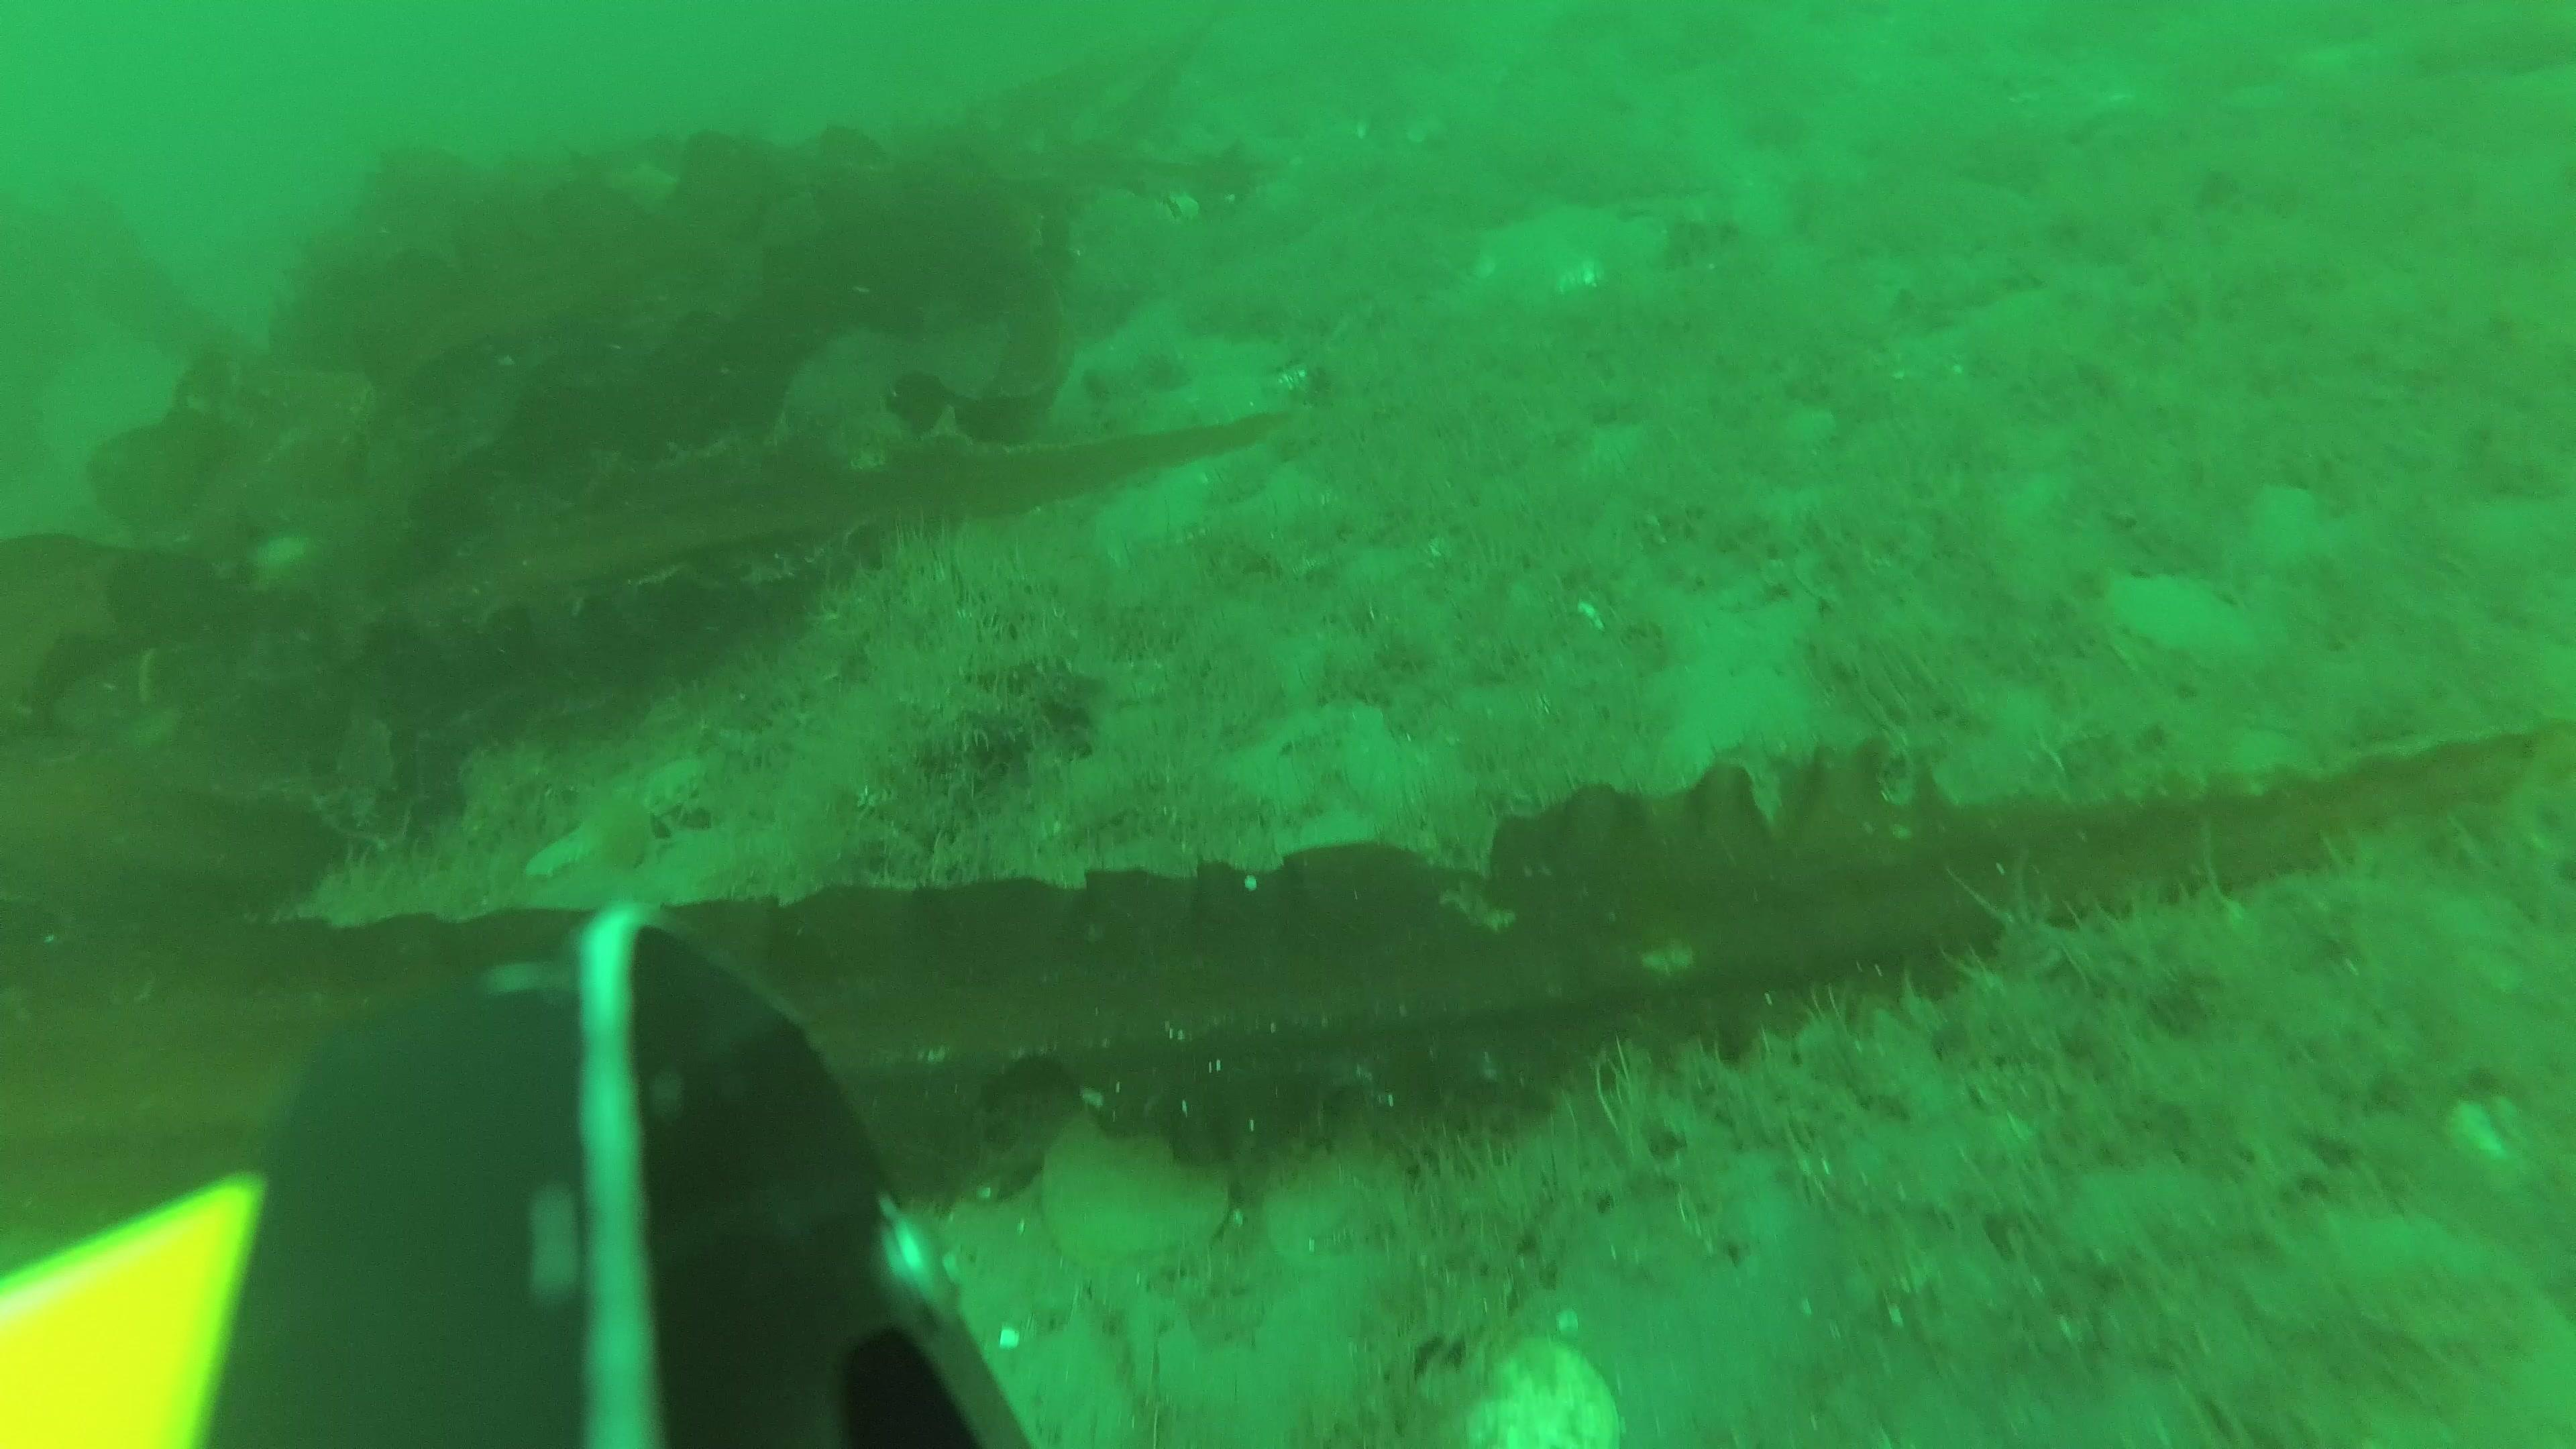scallop: (1037, 1111, 1235, 1272), (1468, 1332, 1621, 1449)
